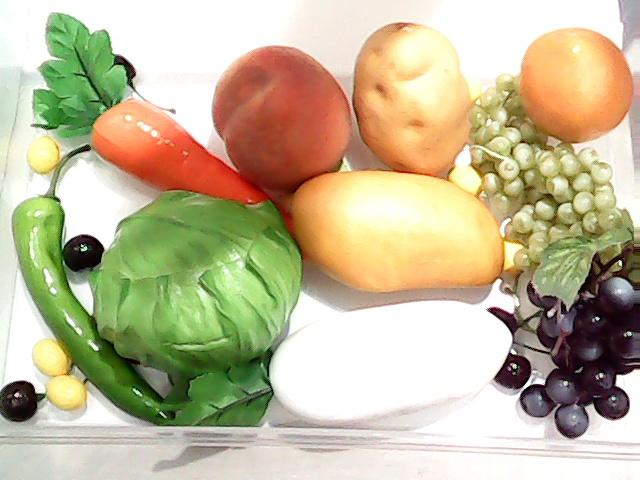cabbage: (80, 192, 320, 376)
carrot: (29, 12, 304, 260)
grape: (459, 64, 640, 283), (516, 230, 640, 437)
lemon: (516, 30, 640, 148)
mango: (294, 170, 502, 294)
peach: (194, 35, 374, 197), (210, 40, 354, 192)
pepper: (8, 172, 188, 422)
potato: (351, 20, 472, 176)
radish: (159, 296, 516, 460)
